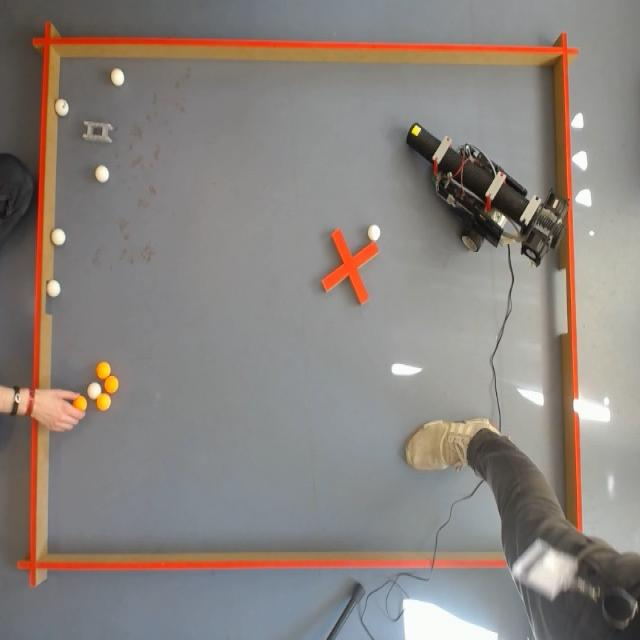orange: (96, 394, 112, 412), (96, 362, 111, 379), (104, 376, 119, 393), (73, 396, 87, 411)
robot: (406, 123, 567, 268)
robot-front: (407, 124, 437, 160)
white: (92, 163, 111, 186), (109, 66, 126, 90), (50, 227, 68, 249), (54, 97, 71, 120), (366, 223, 382, 244), (46, 278, 62, 298), (87, 382, 101, 400)
